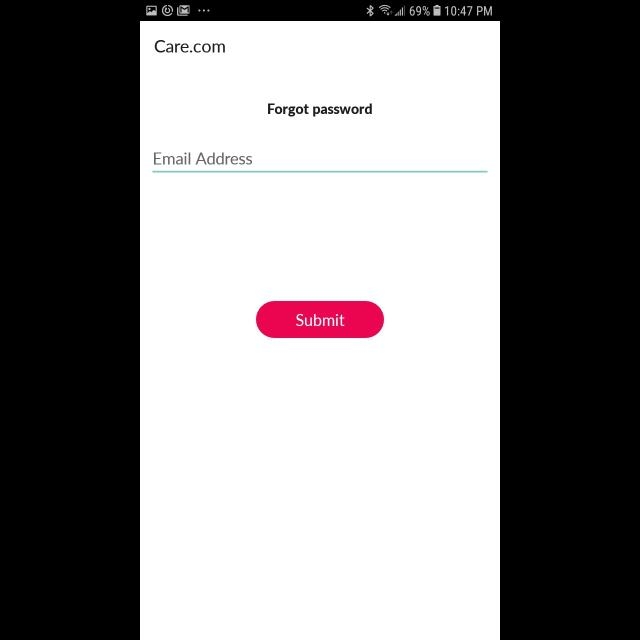input: (152, 152, 488, 174)
text: (154, 152, 252, 166), (268, 104, 372, 116), (155, 40, 225, 54)
textbutton: (256, 302, 384, 338)
uppertaskbar: (140, 1, 500, 22)
